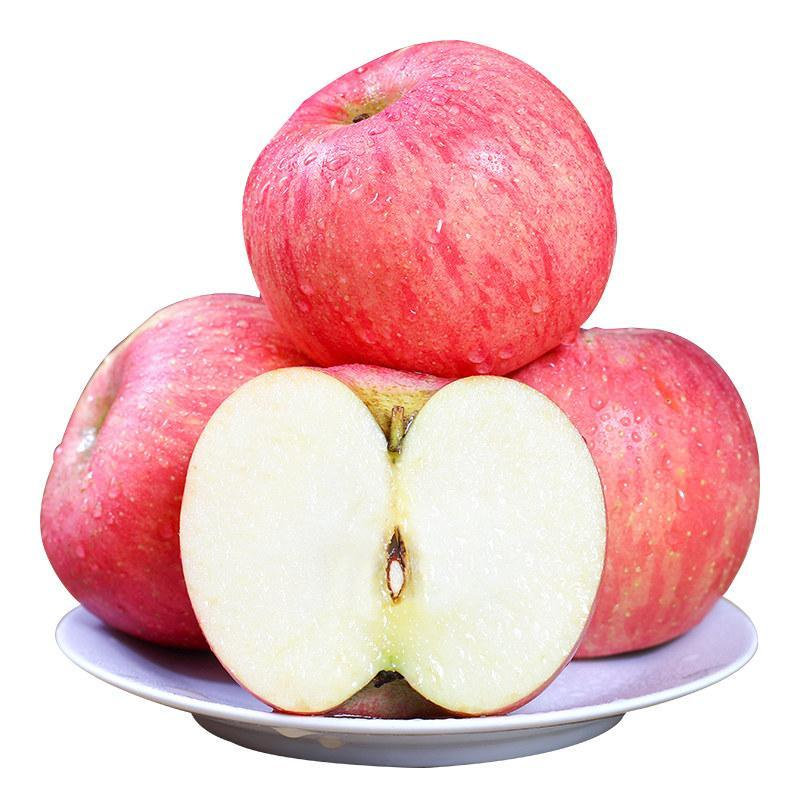apple: (180, 365, 603, 727), (241, 41, 611, 372), (43, 297, 312, 652), (509, 329, 758, 660)
